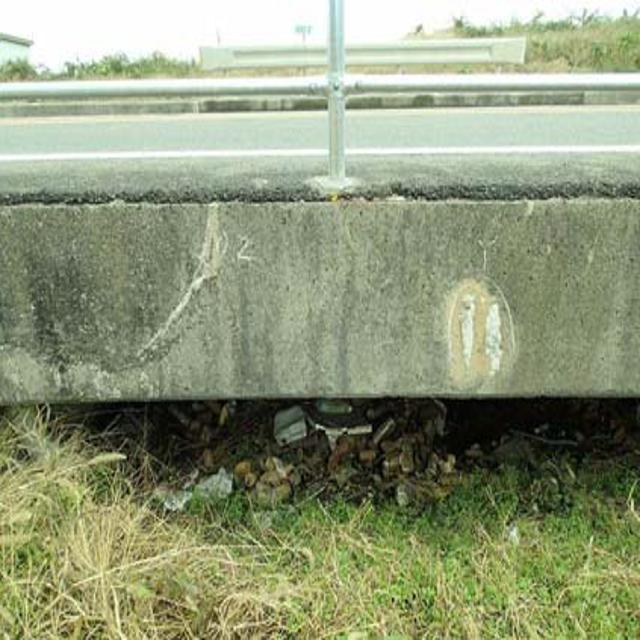freelime: (433, 274, 526, 396)
